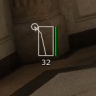hacks_1: (30, 22, 57, 66)
